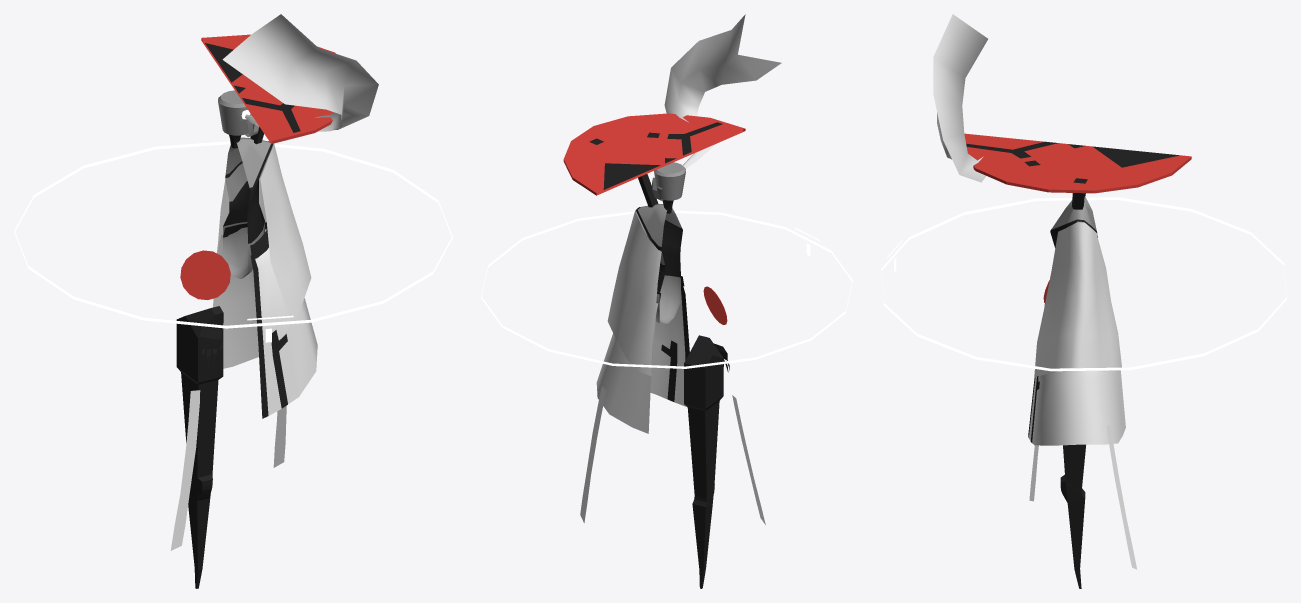
File: KURENAI_lowpoly.glb
3 views of the same model, side by side, from view 1: azimuth 30°, elevation 25°; view 2: azimuth 150°, elevation 25°; view 3: azimuth 270°, elevation 25° (orthographic). The views are drawn at different scales.
Parts seen in each view (by area): view 1: cloth_bottom, fake_smoke, legs, cloth_top, torso, Circle.001, Info_circle, accent_circle, flappy_front, head, flappy_back, hands; view 2: Circle.001, cloth_bottom, legs, cloth_top, fake_smoke, torso, Info_circle, head, flappy_back, flappy_front, accent_circle; view 3: cloth_top, Circle.001, cloth_bottom, fake_smoke, Info_circle, legs, torso, flappy_back.
Part boxes in pixels (x1,y1,x2,y2): cloth_bottom: (213, 229, 317, 418); fake_smoke: (222, 14, 378, 131); legs: (176, 306, 223, 588); cloth_top: (213, 143, 311, 327); torso: (223, 137, 272, 278); Circle.001: (201, 34, 335, 143); Info_circle: (14, 141, 452, 342); accent_circle: (180, 250, 230, 299); flappy_front: (170, 390, 200, 550); head: (218, 90, 251, 135); flappy_back: (273, 406, 286, 467); hands: (199, 327, 222, 366); Circle.001: (563, 113, 745, 195); cloth_bottom: (596, 284, 689, 433); legs: (684, 335, 723, 588); cloth_top: (607, 207, 661, 375); fake_smoke: (664, 14, 781, 168); torso: (636, 204, 682, 323); Info_circle: (481, 210, 852, 368); head: (654, 162, 685, 200); flappy_back: (580, 386, 606, 522); flappy_front: (732, 395, 765, 524); accent_circle: (703, 286, 727, 324); cloth_top: (1034, 222, 1121, 376); Circle.001: (964, 133, 1191, 193); cloth_bottom: (1028, 303, 1125, 445); fake_smoke: (933, 14, 987, 182); Info_circle: (881, 197, 1286, 371); legs: (1060, 444, 1085, 588); torso: (1050, 196, 1097, 247); flappy_back: (1106, 425, 1136, 569).
Bounding box in the file's own units: 1.44 × 2.28 × 1.44.
